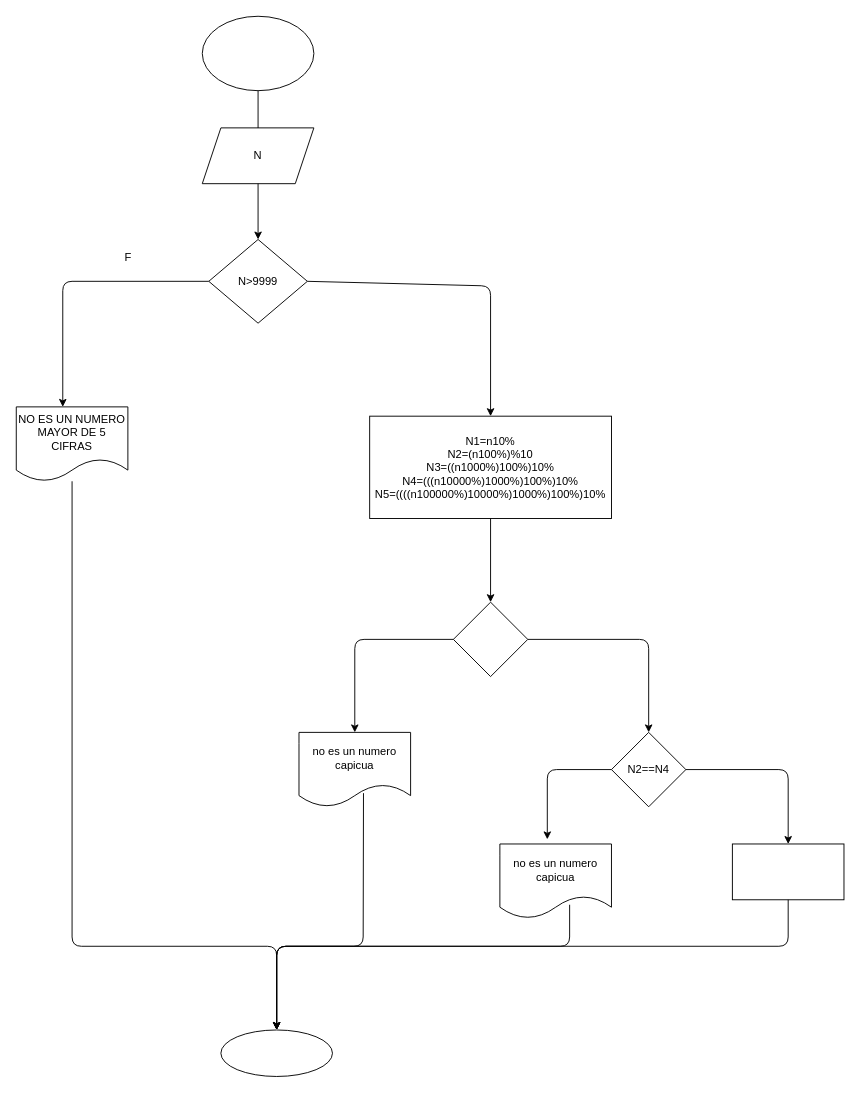
The diagram is 860 pixels wide and 1093 high, and some of its shapes have lost their labels. Each missing label, with the centre of its shape:
FIN: the point at 276,1052
INICIO: the point at 257,53
N1==N5: the point at 490,639
si es un numero capicua: the point at 787,871
